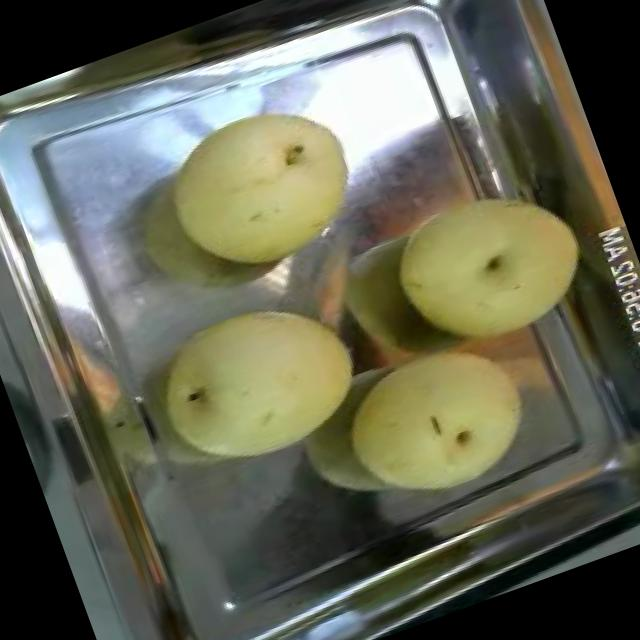Fruit: (138, 74, 390, 306), (133, 270, 384, 496), (366, 156, 616, 379), (316, 313, 558, 535)
